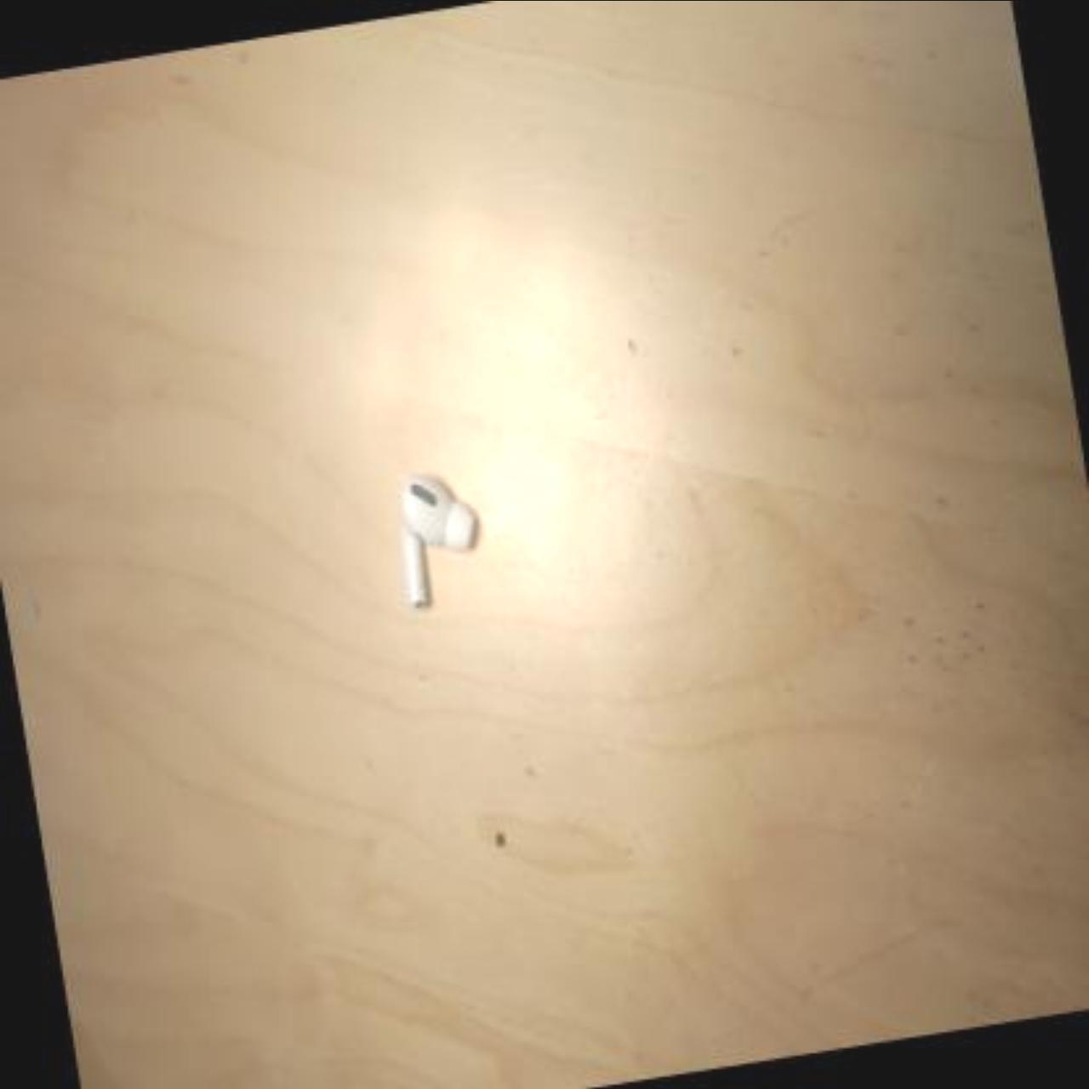Airpods_Units: (385, 471, 490, 623)
